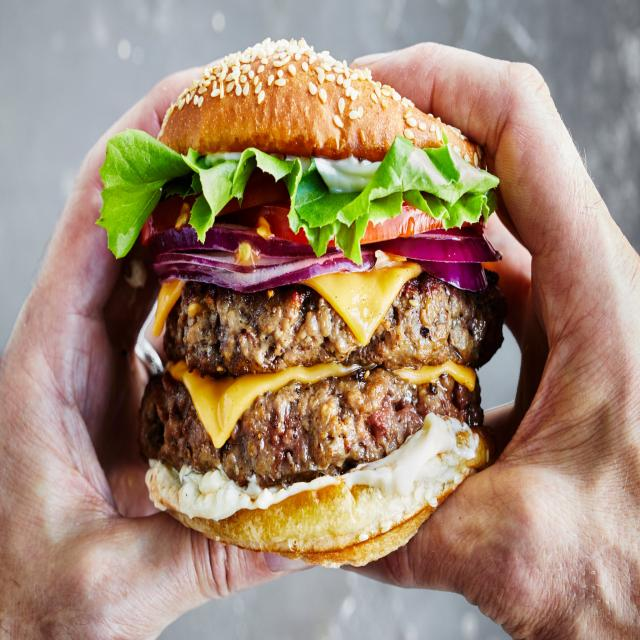burger: (99, 39, 496, 547)
